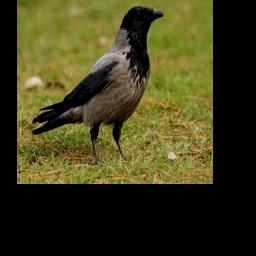Crow: (31, 5, 163, 161)
